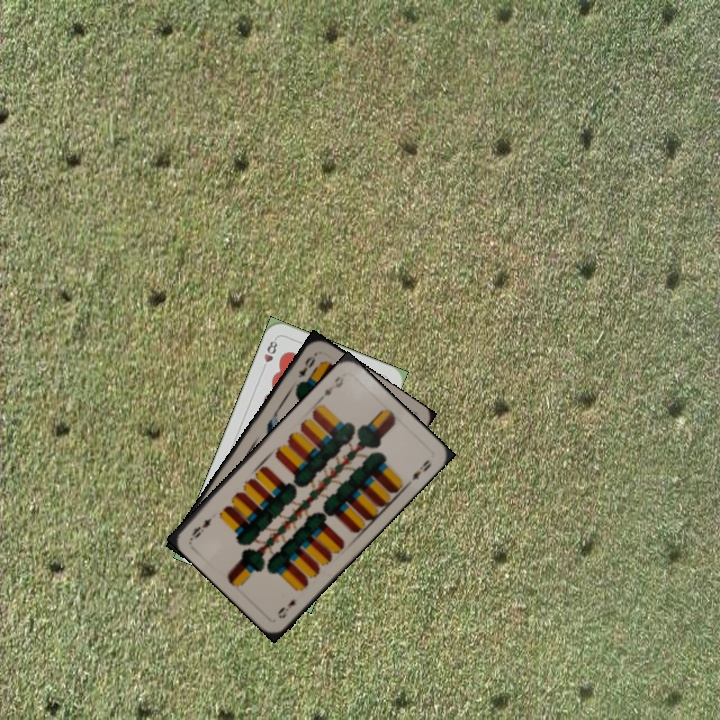E9: (316, 372, 347, 403), (273, 595, 298, 621)
EO: (294, 350, 319, 380)
H8: (258, 334, 280, 373)
